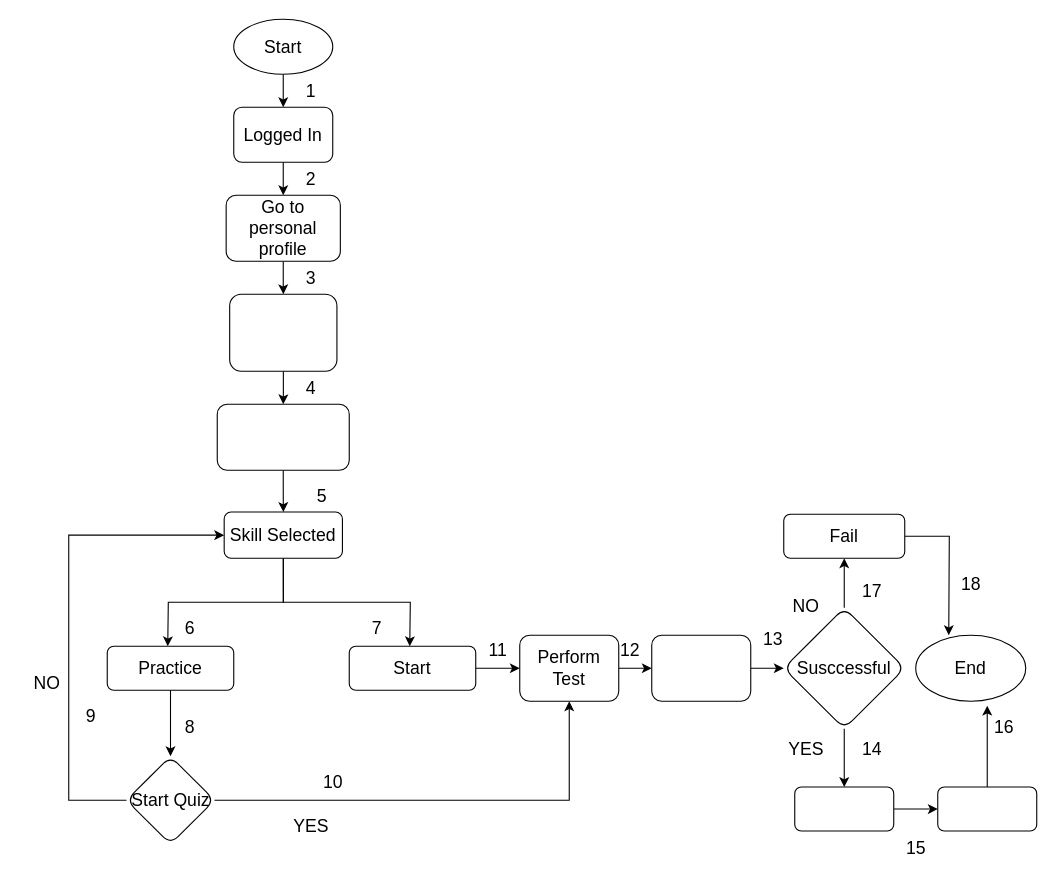
Image size: 1056x883. Some labels were removed from this diagram. Each missing label, with the centre of its shape:
"Click on Demonstarte skills" belongs at (x=283, y=332).
"Pass" belongs at (x=844, y=808).
"Skill Badge Earned" belongs at (x=987, y=808).
"Skill Selection from filters" belongs at (x=282, y=436).
"View Results" belongs at (x=701, y=667).
